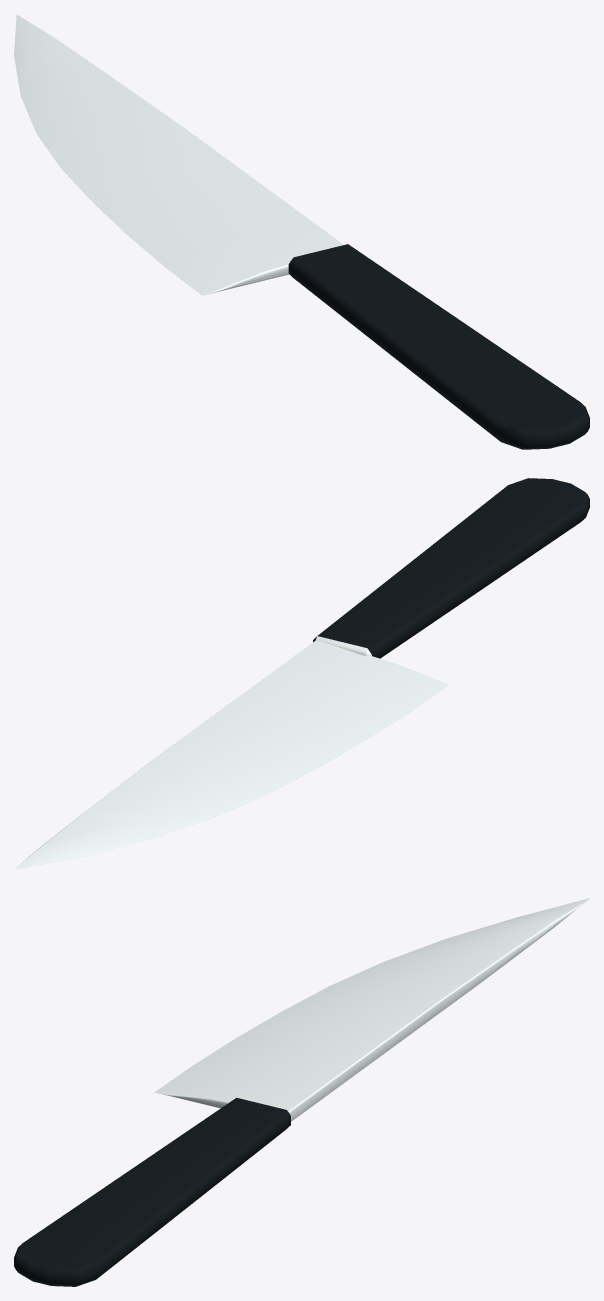
The model's file is Knife.fbx.
3 views of the same model, one above another, from view 1: azimuth 30°, elevation 25°; view 2: azimuth 150°, elevation 25°; view 3: azimuth 330°, elevation 25° (orthographic). The views are drawn at different scales.
Visible parts, largest first — view 1: Knife; view 2: Knife; view 3: Knife.
Boxes of the visible parts, left/top/right/bottom form: Knife: left=14, top=14, right=589, bottom=449; Knife: left=14, top=478, right=589, bottom=869; Knife: left=14, top=898, right=589, bottom=1286.
Bounding box in the file's own units: 19.96 × 2.45 × 122.
